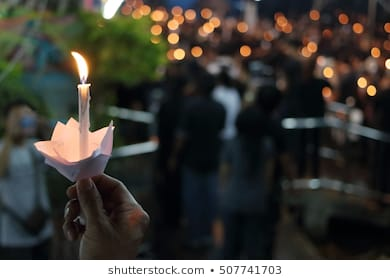Fire: (67, 48, 92, 80)
